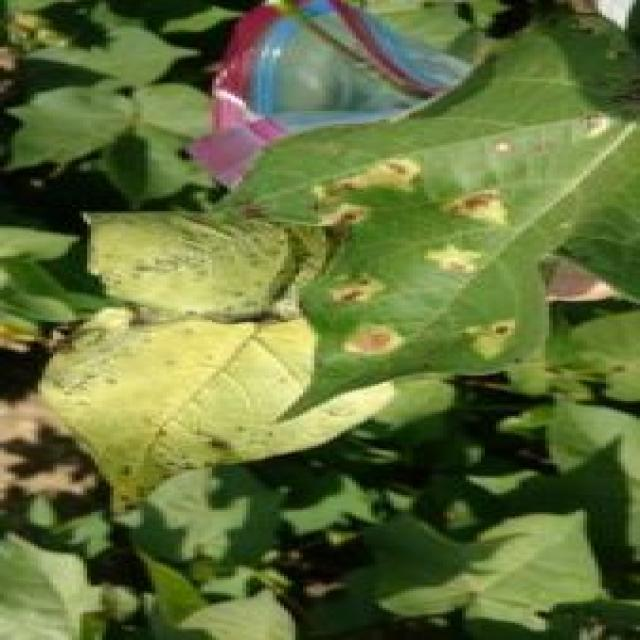Bacterial Blight: (314, 162, 550, 368)
